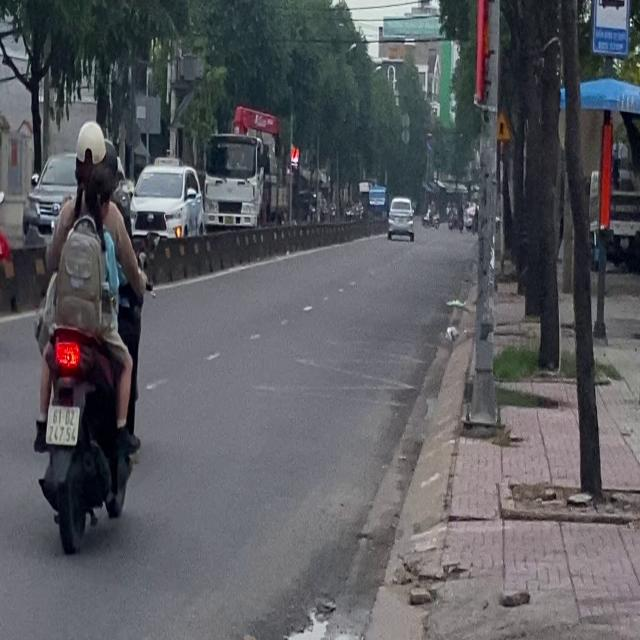helmet: (72, 120, 106, 186)
licenseplate: (29, 116, 146, 552)
motorcyclist: (82, 166, 113, 222)
nohelmet: (46, 404, 78, 442)
